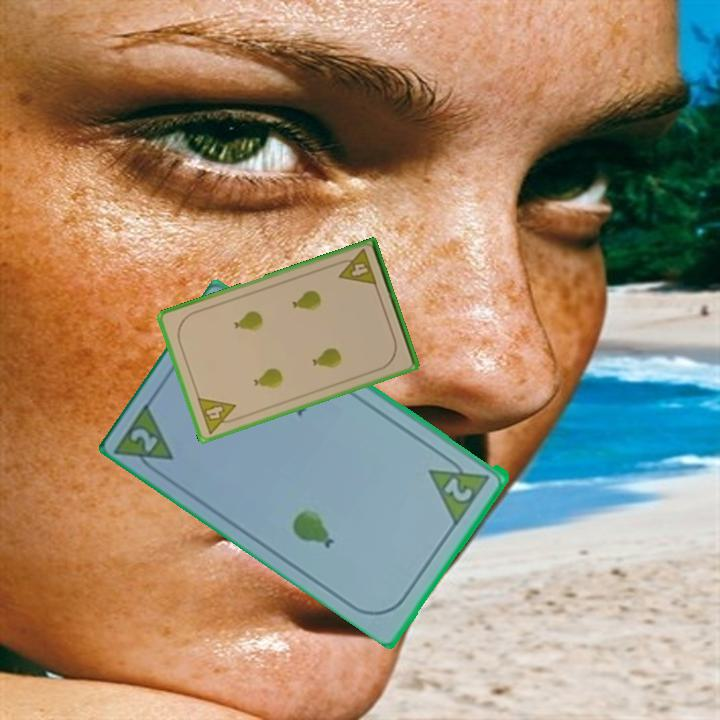2p: (113, 397, 178, 480), (425, 449, 494, 526)
4p: (193, 394, 243, 437), (332, 246, 379, 289)
